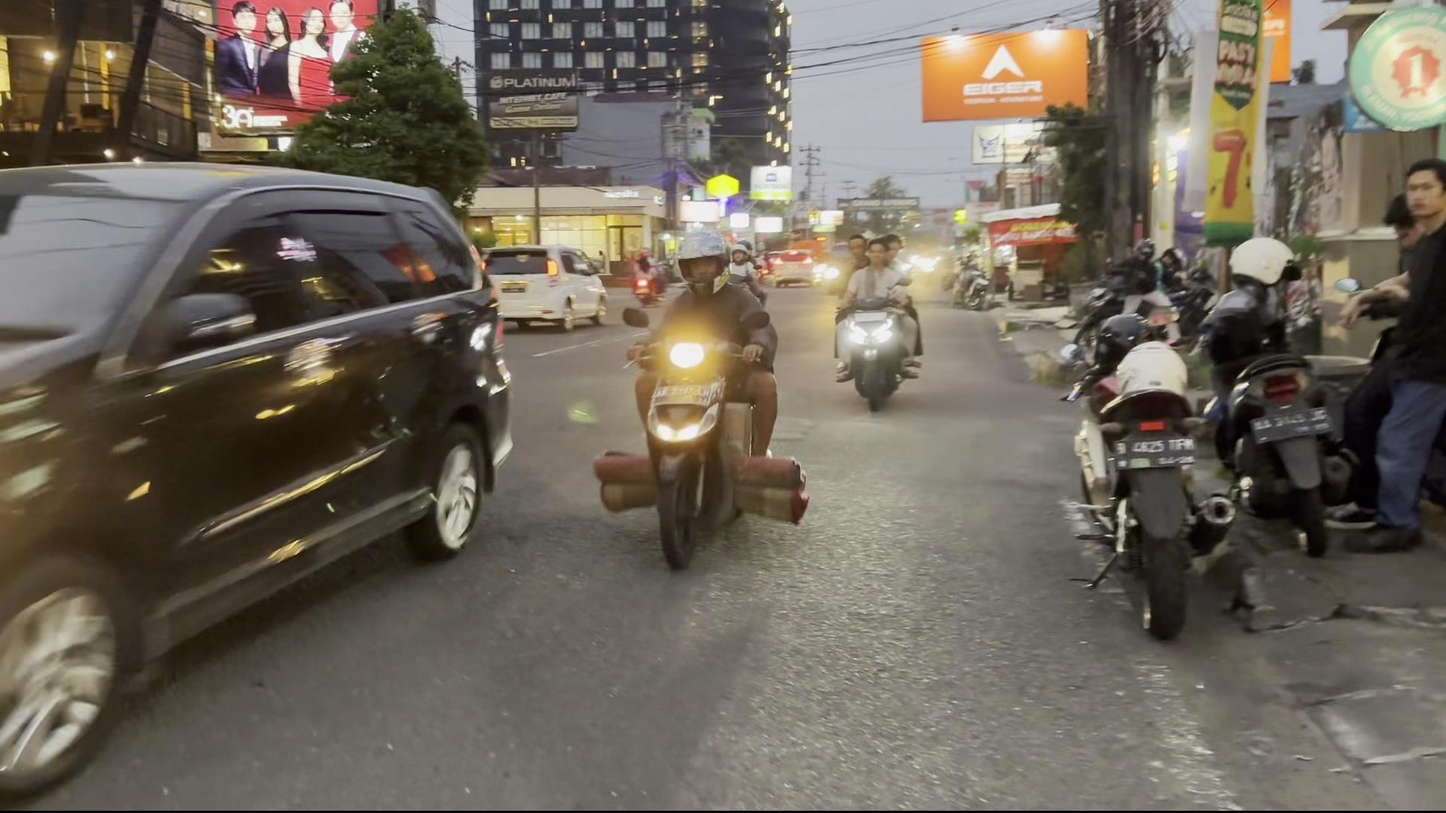nohelm: (867, 238, 890, 268)
